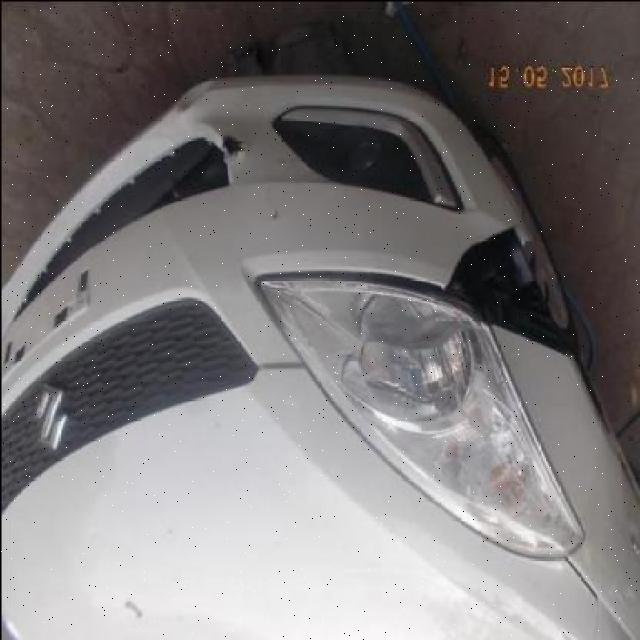damage: (307, 214, 564, 362), (172, 75, 215, 116), (220, 126, 244, 158), (122, 592, 143, 624), (263, 181, 279, 222)
